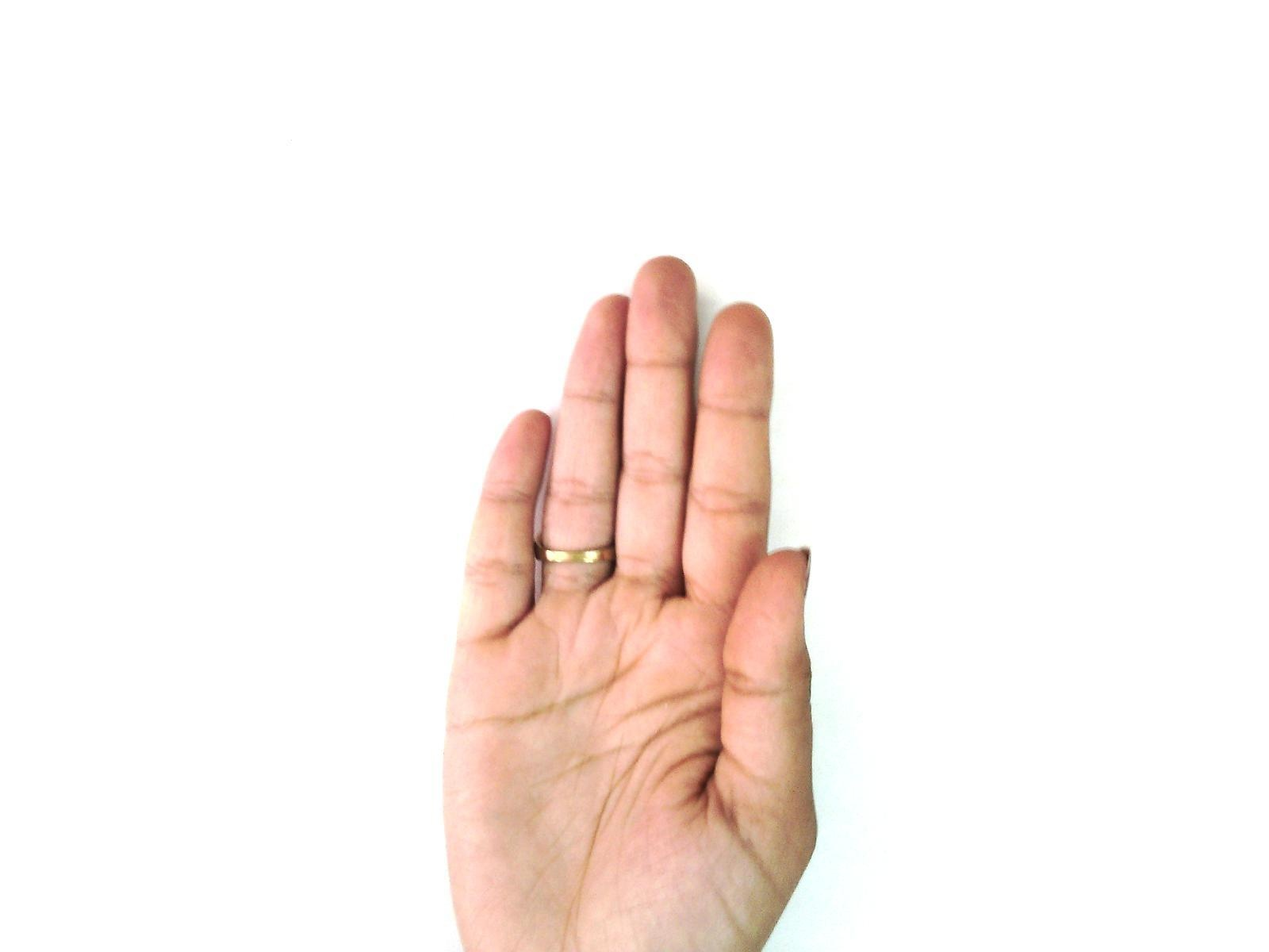open_palm: (439, 255, 822, 951)
